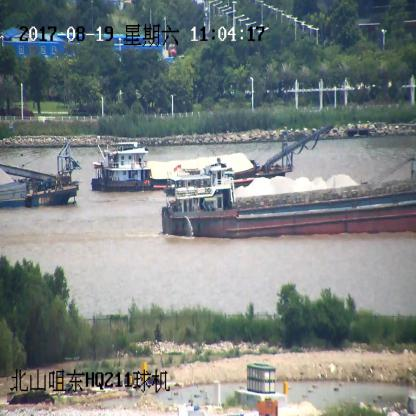Bulk Carrier: (162, 174, 415, 238)
